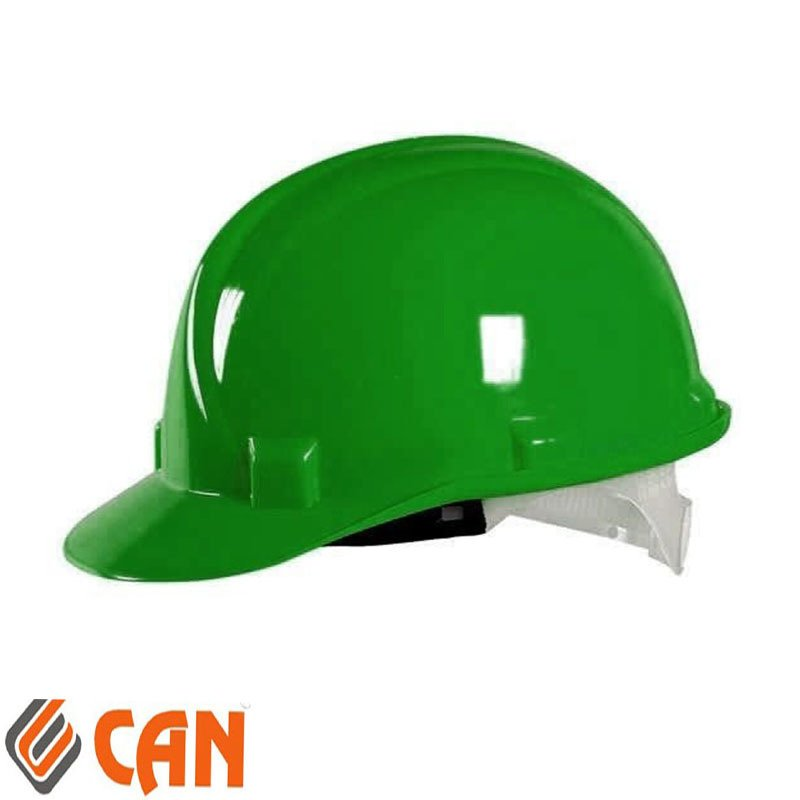baret: (55, 122, 736, 609)
